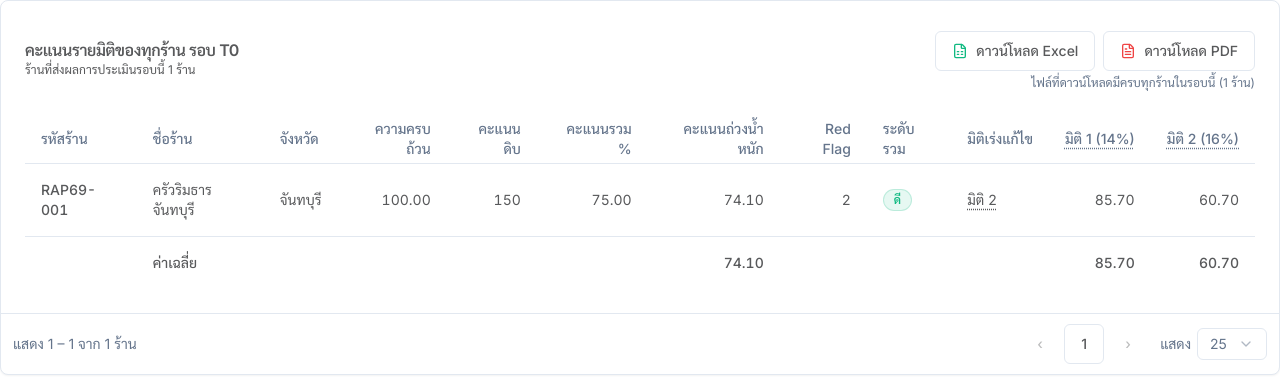
RoundMatrixPanel › numbers the dimension columns and keeps the full name in a tooltip
Expected: the button "มิติ 2 (16%)" is shown, [1167,129,1239,149]
Expected: the text "ความปลอดภัยอาหาร" is not shown
Hover over the button "มิติ 1 (14%)" at (1100, 139), box [1065,129,1135,149]
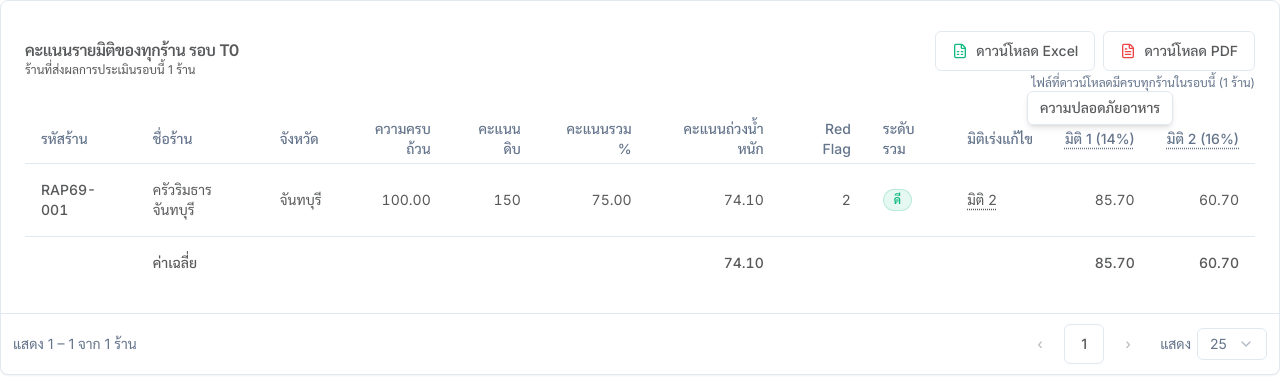
Expected: the tooltip "ความปลอดภัยอาหาร" is shown, [1027,91,1173,125]
